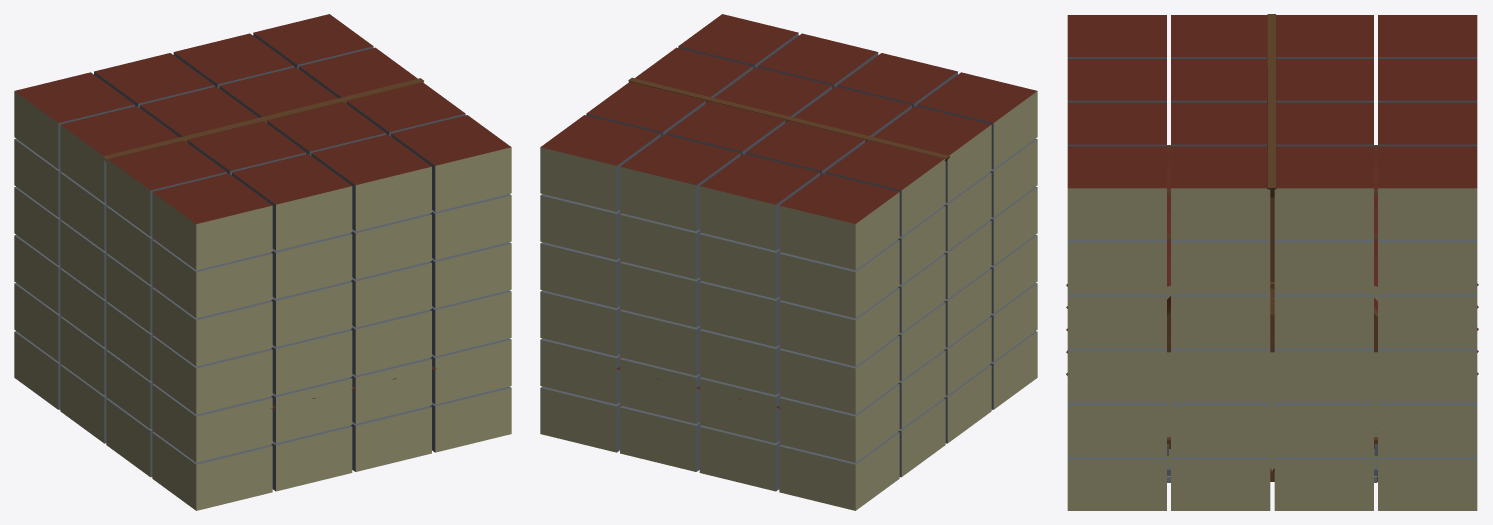
Rendered from Inn_destructible.gltf.
3 views of the same model, side by side, from view 1: azimuth 30°, elevation 25°; view 2: azimuth 150°, elevation 25°; view 3: azimuth 270°, elevation 25° (orthographic). The views are drawn at different scales.
Parts seen in each view (by area): view 1: block_f5_r3_c0, block_f5_r3_c1, block_f5_r3_c2, block_f5_r3_c3, block_f1_r3_c0, block_f3_r3_c0, block_f2_r3_c0, block_f4_r3_c0, block_f0_r3_c0, block_f5_r2_c0, block_f5_r0_c0, block_f5_r1_c0 (+39 smaller); view 2: block_f5_r0_c0, block_f5_r0_c1, block_f5_r0_c2, block_f5_r0_c3, block_f1_r0_c0, block_f3_r0_c0, block_f2_r0_c0, block_f4_r0_c0, block_f0_r0_c0, block_f5_r1_c0, block_f5_r3_c0, block_f5_r2_c0 (+39 smaller); view 3: block_f5_r2_c3, block_f5_r1_c3, block_f5_r0_c3, block_f5_r3_c3, block_f3_r1_c3, block_f3_r2_c3, block_f1_r1_c3, block_f1_r2_c3, block_f4_r1_c3, block_f4_r2_c3, block_f2_r2_c3, block_f2_r1_c3 (+24 smaller).
Boxes of the visible parts, x1=… form: block_f5_r3_c0: x1=152, y1=173, x2=272, y2=270; block_f5_r3_c1: x1=232, y1=154, x2=352, y2=250; block_f5_r3_c2: x1=311, y1=134, x2=431, y2=231; block_f5_r3_c3: x1=391, y1=115, x2=511, y2=211; block_f1_r3_c0: x1=152, y1=384, x2=274, y2=462; block_f3_r3_c0: x1=152, y1=287, x2=272, y2=366; block_f2_r3_c0: x1=152, y1=336, x2=272, y2=414; block_f4_r3_c0: x1=152, y1=239, x2=272, y2=318; block_f0_r3_c0: x1=152, y1=432, x2=272, y2=510; block_f5_r2_c0: x1=104, y1=138, x2=226, y2=236; block_f5_r0_c0: x1=14, y1=72, x2=134, y2=169; block_f5_r1_c0: x1=60, y1=106, x2=182, y2=202; block_f5_r0_c0: x1=779, y1=173, x2=899, y2=270; block_f5_r0_c1: x1=699, y1=154, x2=819, y2=250; block_f5_r0_c2: x1=620, y1=134, x2=740, y2=231; block_f5_r0_c3: x1=540, y1=115, x2=660, y2=211; block_f1_r0_c0: x1=778, y1=384, x2=899, y2=462; block_f3_r0_c0: x1=779, y1=287, x2=899, y2=366; block_f2_r0_c0: x1=779, y1=336, x2=899, y2=414; block_f4_r0_c0: x1=779, y1=239, x2=899, y2=318; block_f0_r0_c0: x1=779, y1=432, x2=899, y2=510; block_f5_r1_c0: x1=825, y1=138, x2=947, y2=236; block_f5_r3_c0: x1=917, y1=72, x2=1037, y2=169; block_f5_r2_c0: x1=869, y1=106, x2=991, y2=202; block_f5_r2_c3: x1=1171, y1=144, x2=1272, y2=240; block_f5_r1_c3: x1=1272, y1=144, x2=1373, y2=240; block_f5_r0_c3: x1=1378, y1=146, x2=1477, y2=240; block_f5_r3_c3: x1=1067, y1=146, x2=1166, y2=240; block_f3_r1_c3: x1=1272, y1=260, x2=1375, y2=348; block_f3_r2_c3: x1=1169, y1=260, x2=1272, y2=348; block_f1_r1_c3: x1=1272, y1=372, x2=1375, y2=456; block_f1_r2_c3: x1=1169, y1=372, x2=1272, y2=456; block_f4_r1_c3: x1=1272, y1=221, x2=1375, y2=294; block_f4_r2_c3: x1=1169, y1=221, x2=1272, y2=294; block_f2_r2_c3: x1=1169, y1=329, x2=1272, y2=402; block_f2_r1_c3: x1=1272, y1=329, x2=1375, y2=402.
Bounding box in the file's own units: 12 × 10.4 × 11.98.
